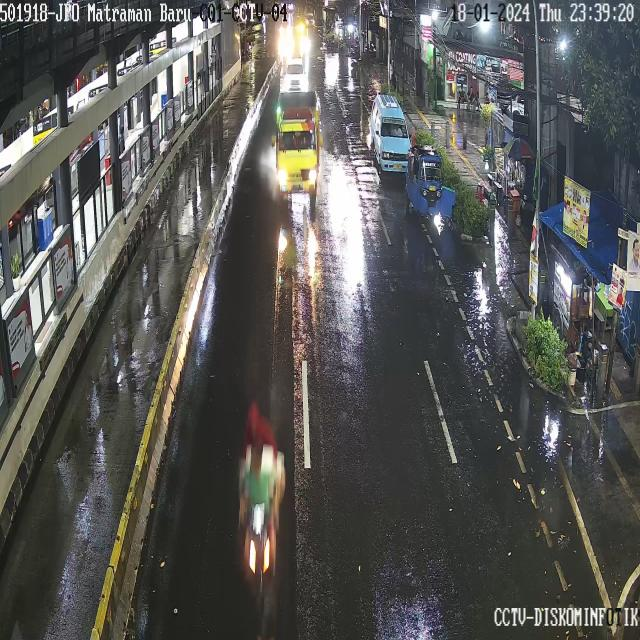Gerobak: (548, 255, 580, 346)
Payung: (498, 123, 539, 165)
